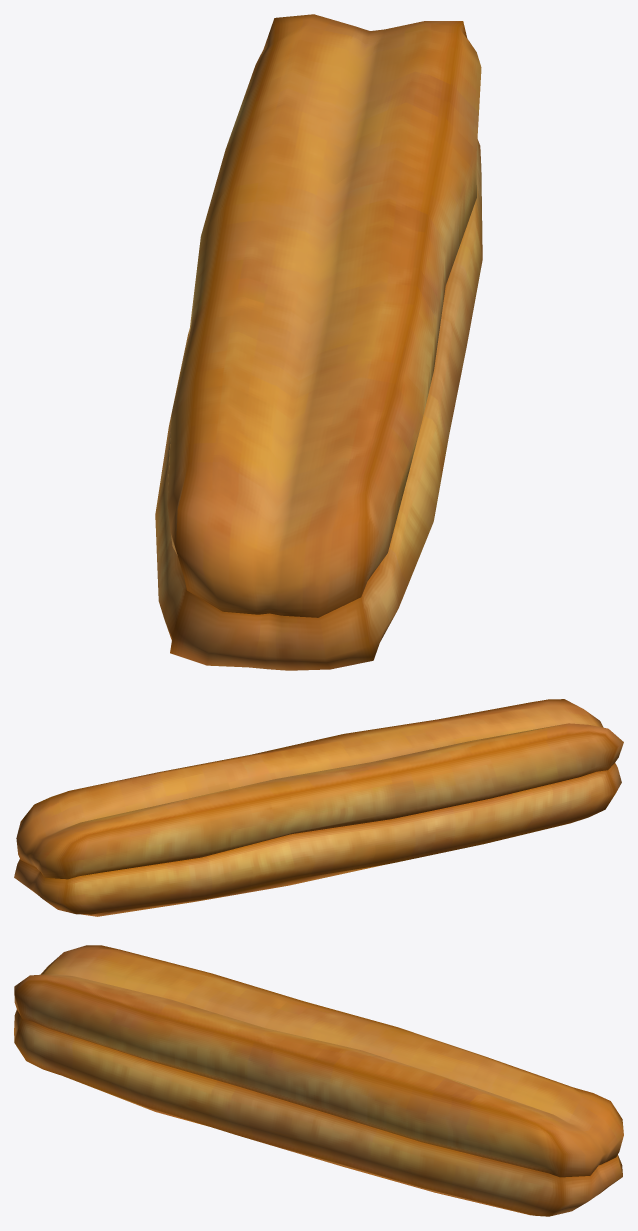
The model's file is ref_bffrieddoughstick.fbx.
3 views of the same model, one above another, from view 1: azimuth 30°, elevation 25°; view 2: azimuth 150°, elevation 25°; view 3: azimuth 270°, elevation 25° (orthographic). The views are drawn at different scales.
Parts seen in each view (by area): view 1: ref_bffrieddoughstick; view 2: ref_bffrieddoughstick; view 3: ref_bffrieddoughstick.
Part boxes in pixels (left/top/right/bottom): ref_bffrieddoughstick: left=155, top=14, right=482, bottom=670; ref_bffrieddoughstick: left=14, top=699, right=623, bottom=916; ref_bffrieddoughstick: left=14, top=945, right=623, bottom=1216.
Bounding box in the file's own units: 76.75 × 20.66 × 100.
Materials: 1 (1 with a texture image).
